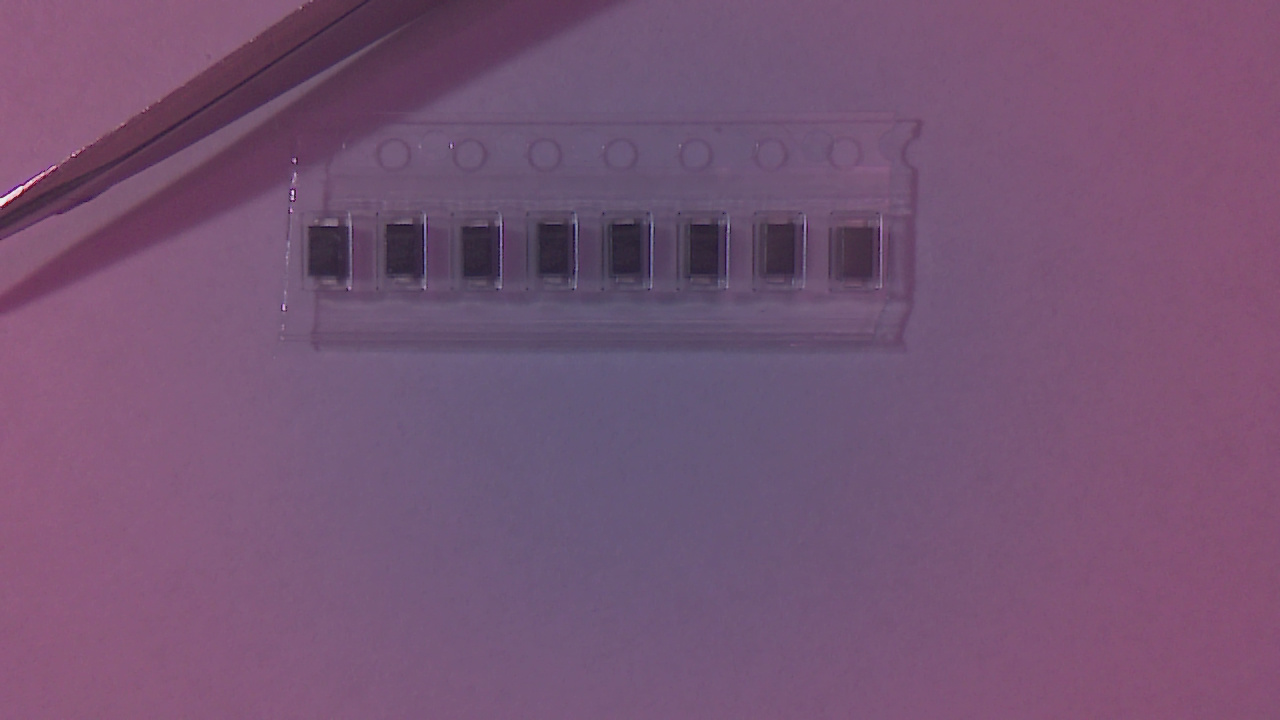Diode: (610, 222, 652, 295), (839, 219, 878, 294), (540, 219, 578, 295), (309, 224, 350, 294), (463, 222, 503, 293), (690, 221, 727, 293), (391, 223, 429, 292), (765, 221, 801, 293)
